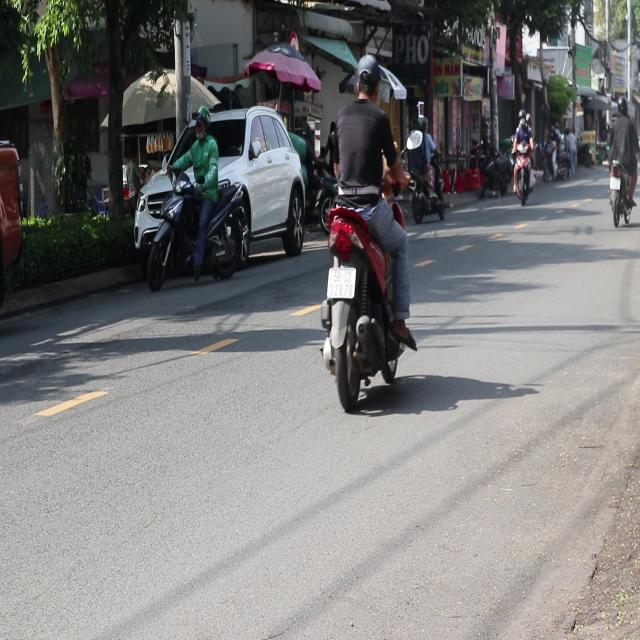helmet: (193, 104, 210, 138)
licenseplate: (316, 51, 416, 410), (144, 102, 250, 290)
motorcyclist: (353, 52, 381, 102)
nohelmet: (327, 266, 355, 298)
